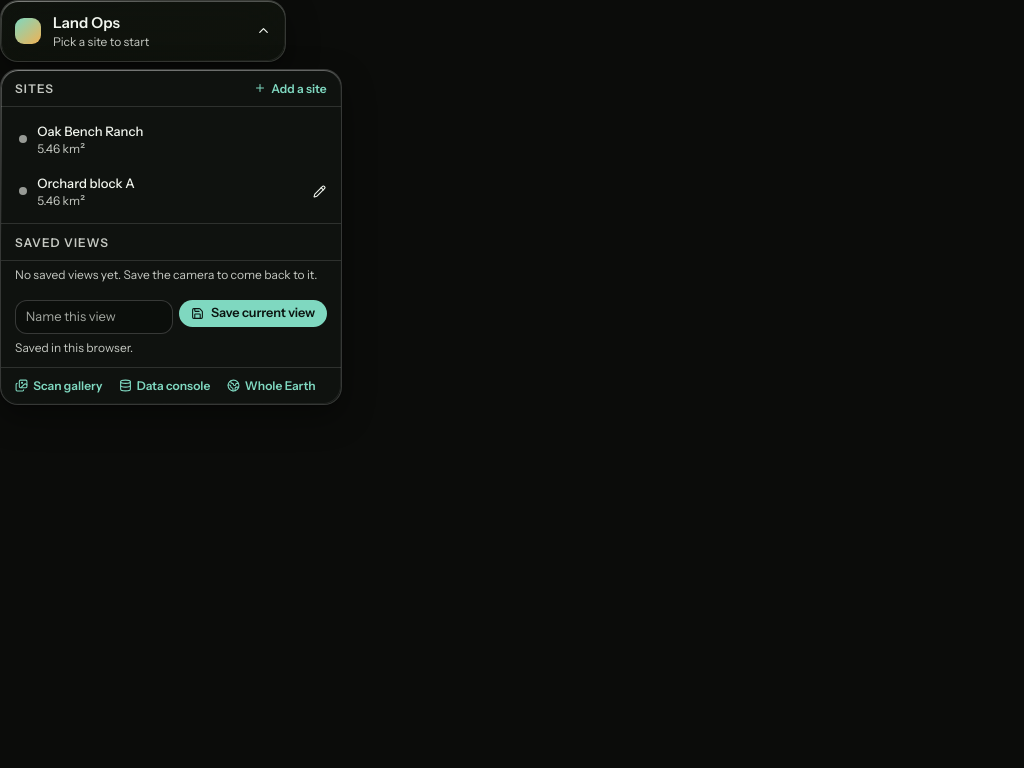
renaming a site in the switcher › asks for the write token on a 401, and saving it retries the rename
Expected: the text "Orchard block A" is shown, x1=37 y1=175 x2=135 y2=191
Click the button named "Rename Orchard block A": (319, 191) x1=306 y1=177 x2=333 y2=205
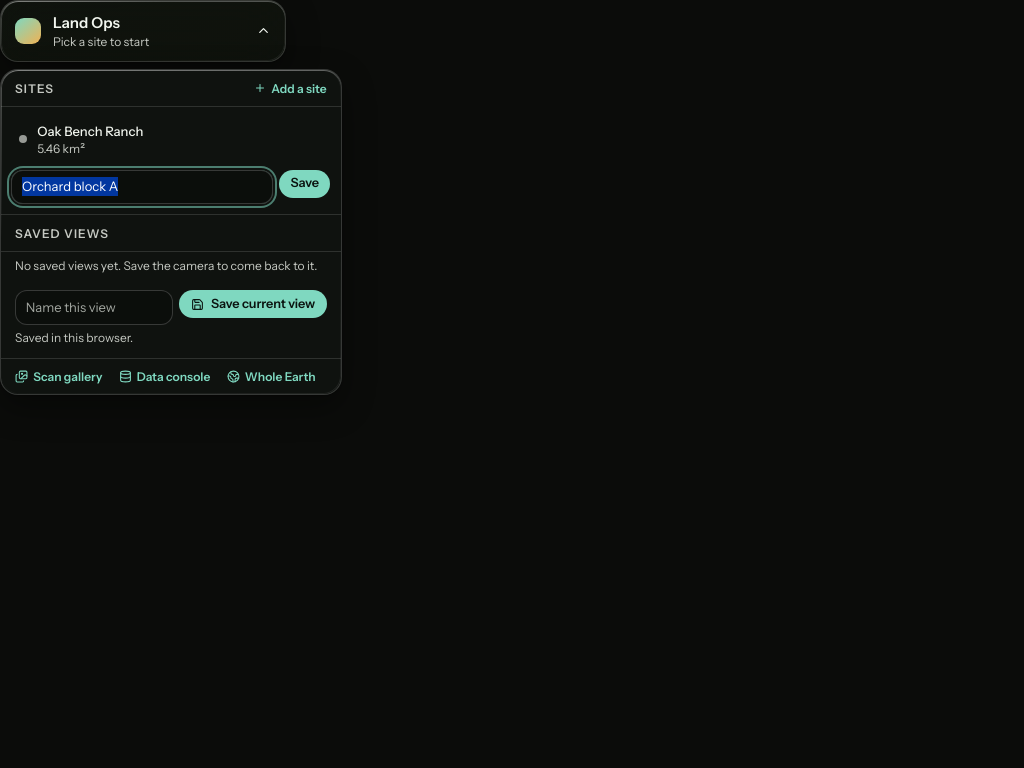
Replace the text in the field named "New name" with "North orchard": (142, 187) x1=11 y1=170 x2=273 y2=204
Then press Enter
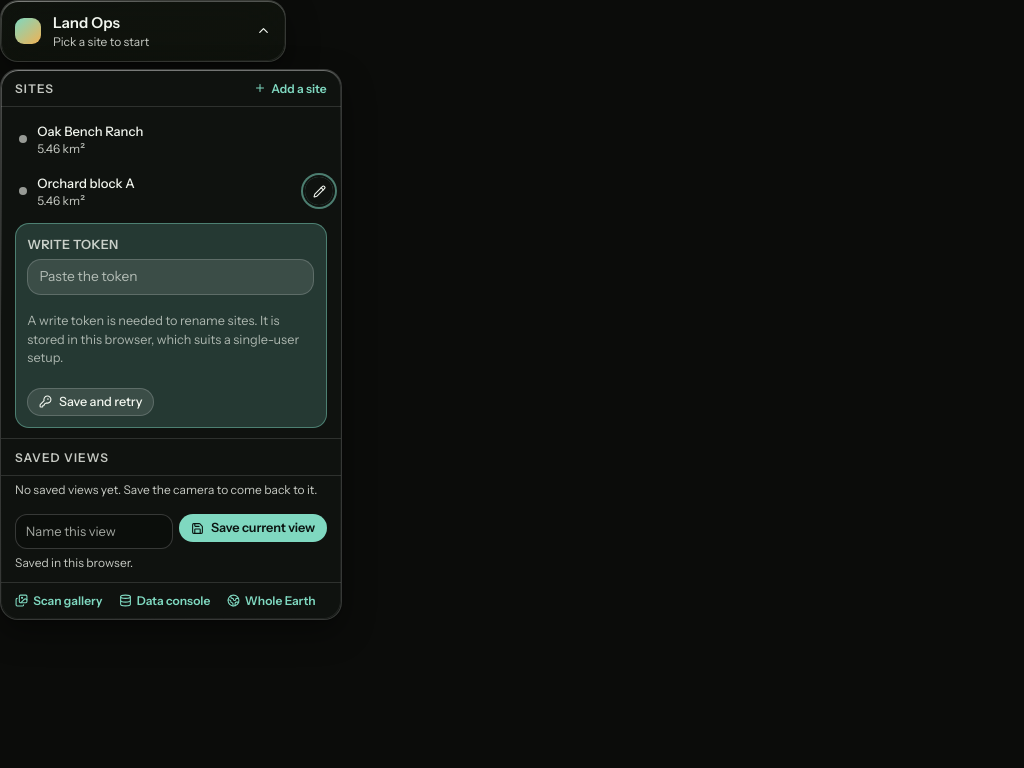
Expected: the form with test id "write-token-form" shows "A write token is needed to rename sites", x1=27 y1=314 x2=299 y2=365
Expected: the button with test id "site-row-orchard-block-a" shows "Orchard block A", x1=8 y1=165 x2=303 y2=218
In the password field with test id "write-token-input": (171, 277) x1=27 y1=259 x2=314 y2=294, type "s3cret"
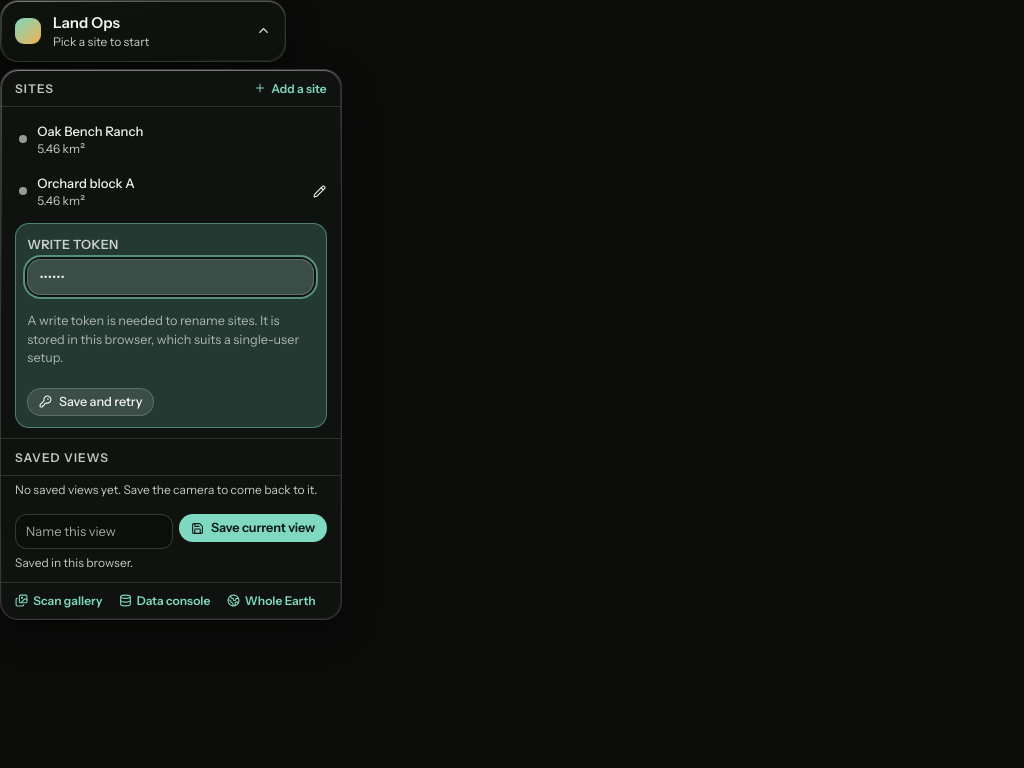
Click the button with test id "write-token-save": (91, 402) x1=27 y1=388 x2=154 y2=416
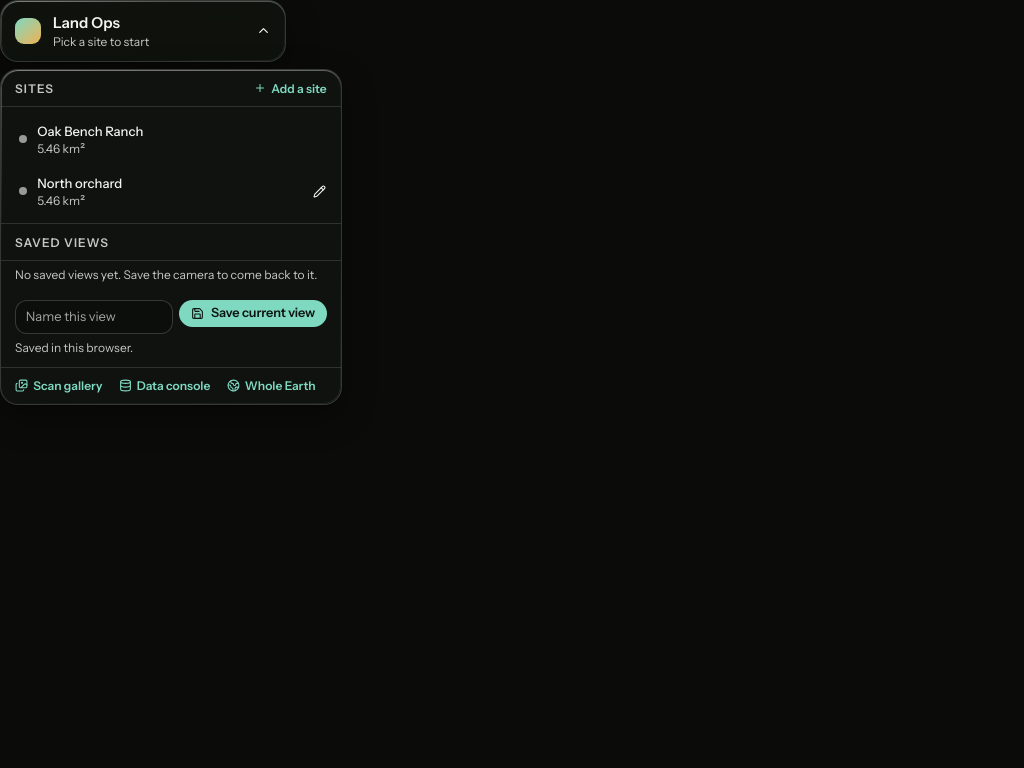
Expected: the button with test id "site-row-orchard-block-a" shows "North orchard", x1=8 y1=165 x2=303 y2=218
Expected: the form with test id "write-token-form" is gone
